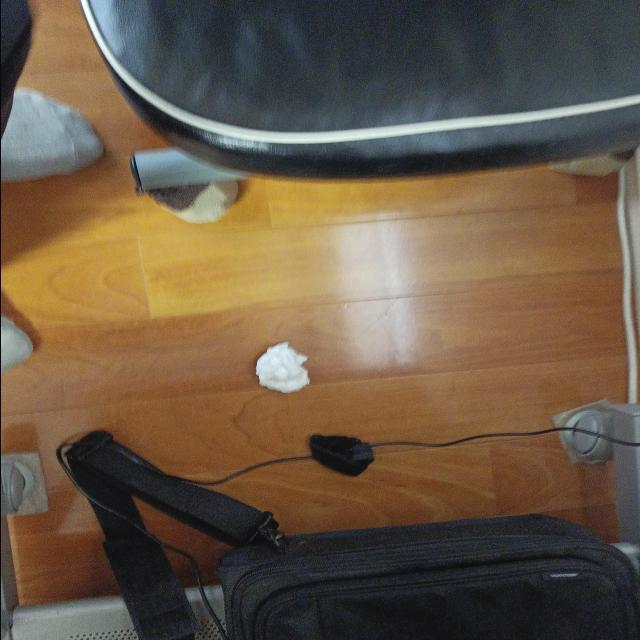Paper: (247, 333, 315, 401)
